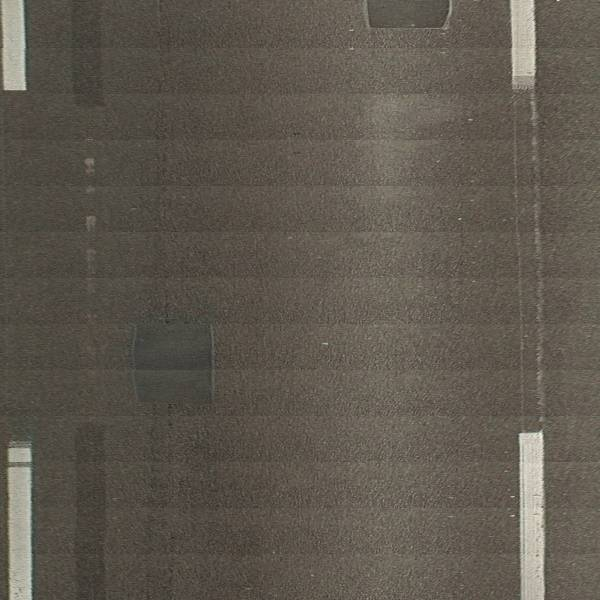road_damage: (127, 316, 220, 412), (363, 1, 454, 31)
